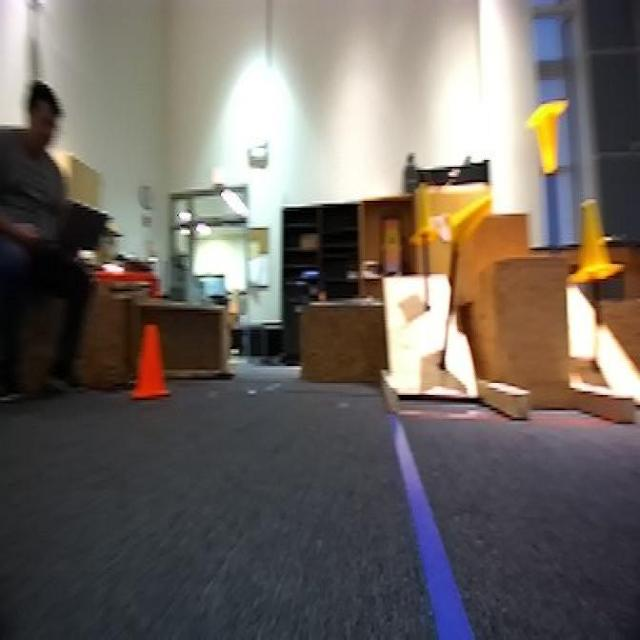frc_cone: (571, 201, 618, 286), (445, 192, 493, 250), (526, 102, 564, 174), (412, 186, 440, 250)
